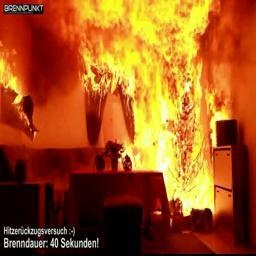fire: (8, 1, 246, 180)
